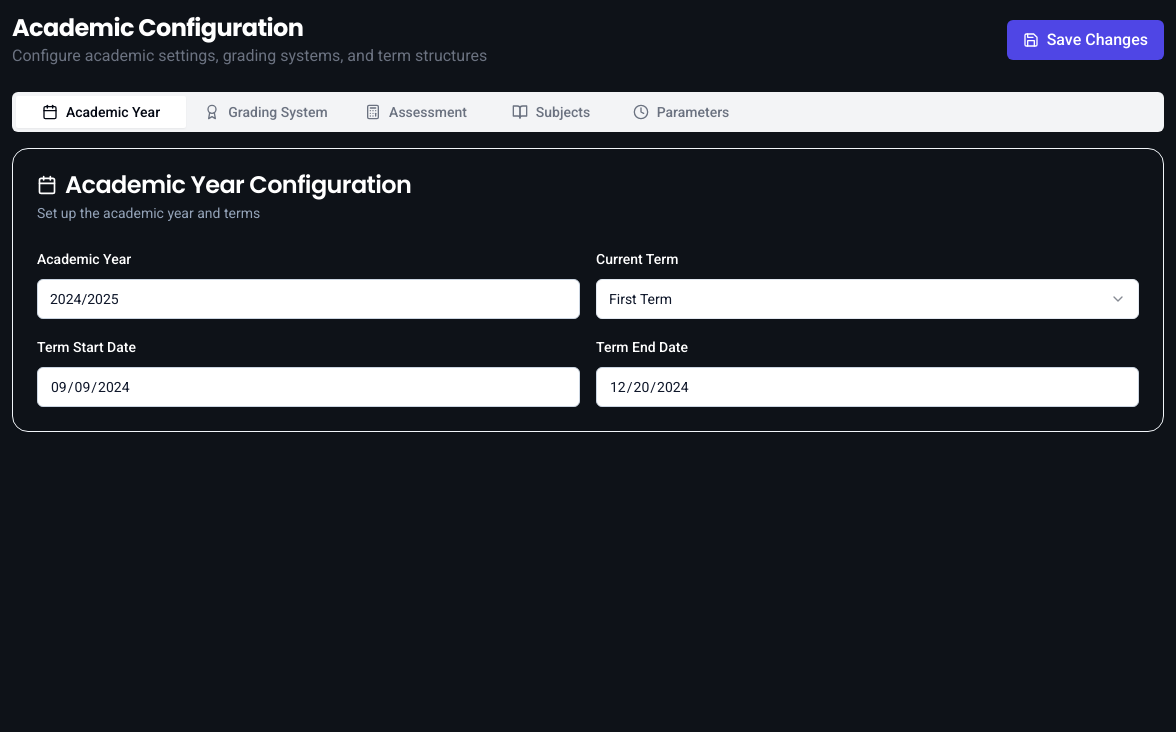
Test: AcademicConfiguration › handles grade editing
This screenshot has width=1176, height=732.
Step 1. Click the tab "Grading System" → [266, 112], box [186,96,346,128]
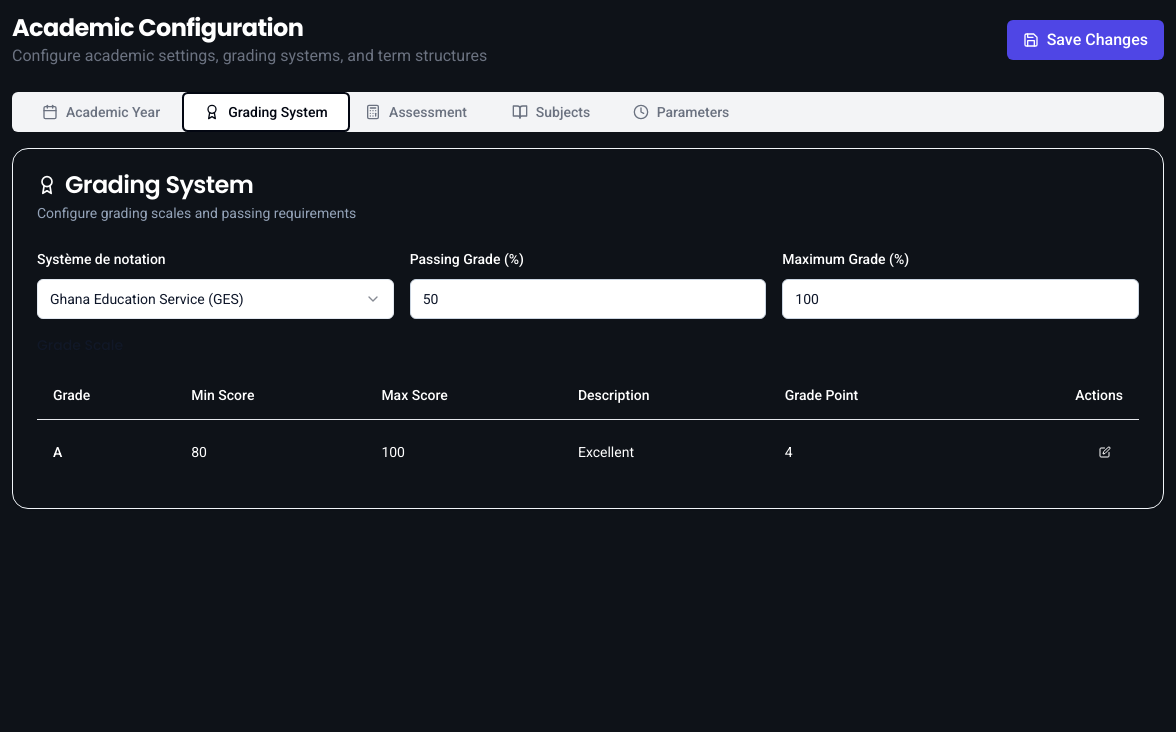
// Find the edit button for the first grade (id: '1')
Step 2. Click the button with test id "edit-grade-1" → [1105, 452], box [1087,436,1123,468]
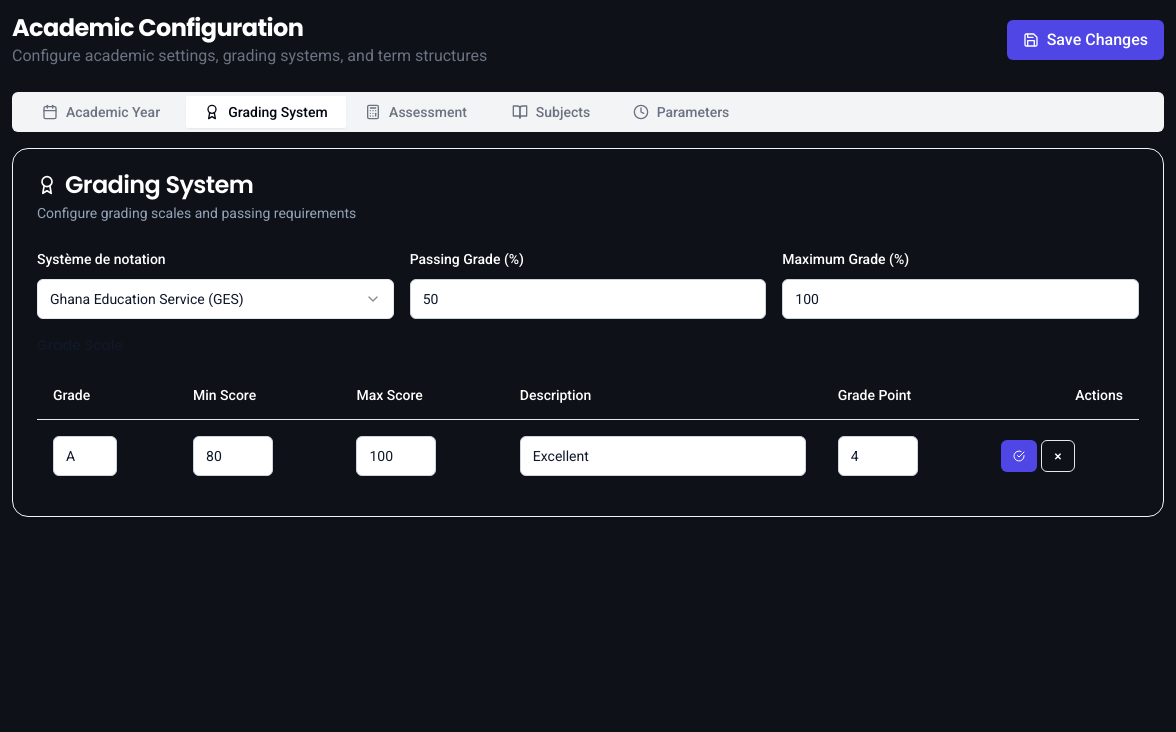
// After clicking edit, an input should appear
Step 3. Replace the text in the 1st field showing "A" with "A+" → [85, 456], box [53,436,117,476]
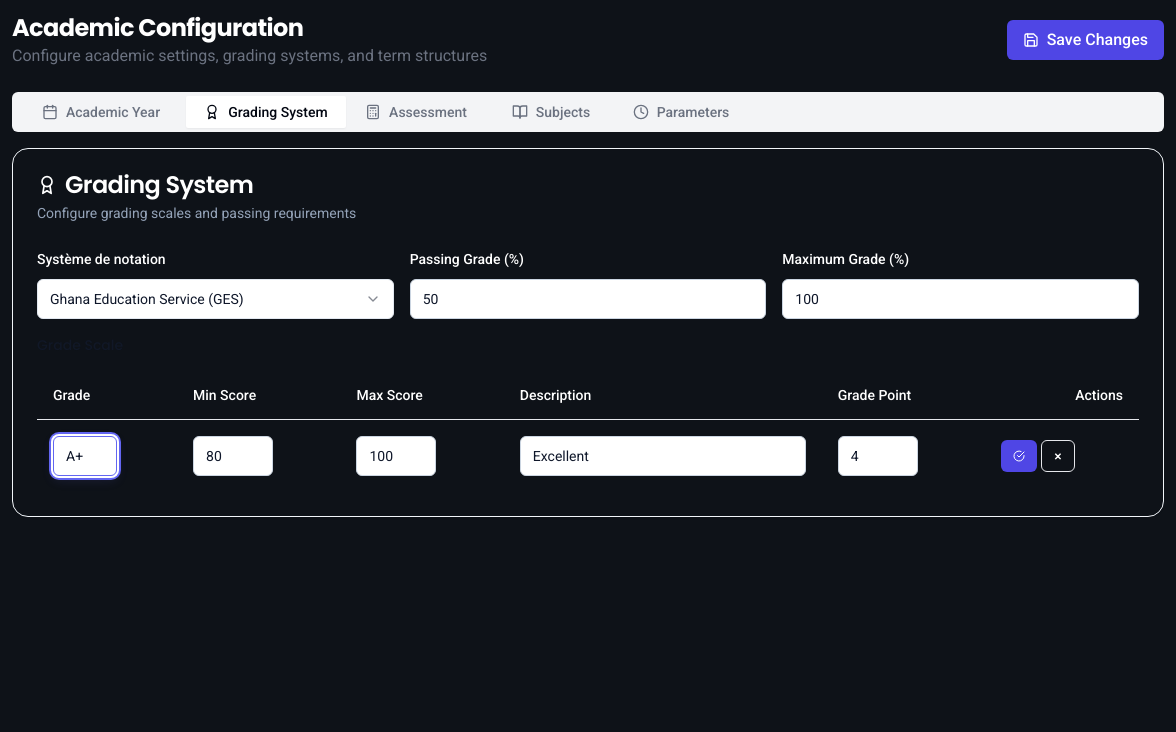
Step 4. Click the button with test id "save-grade-1" → [1019, 456], box [1001,440,1037,472]
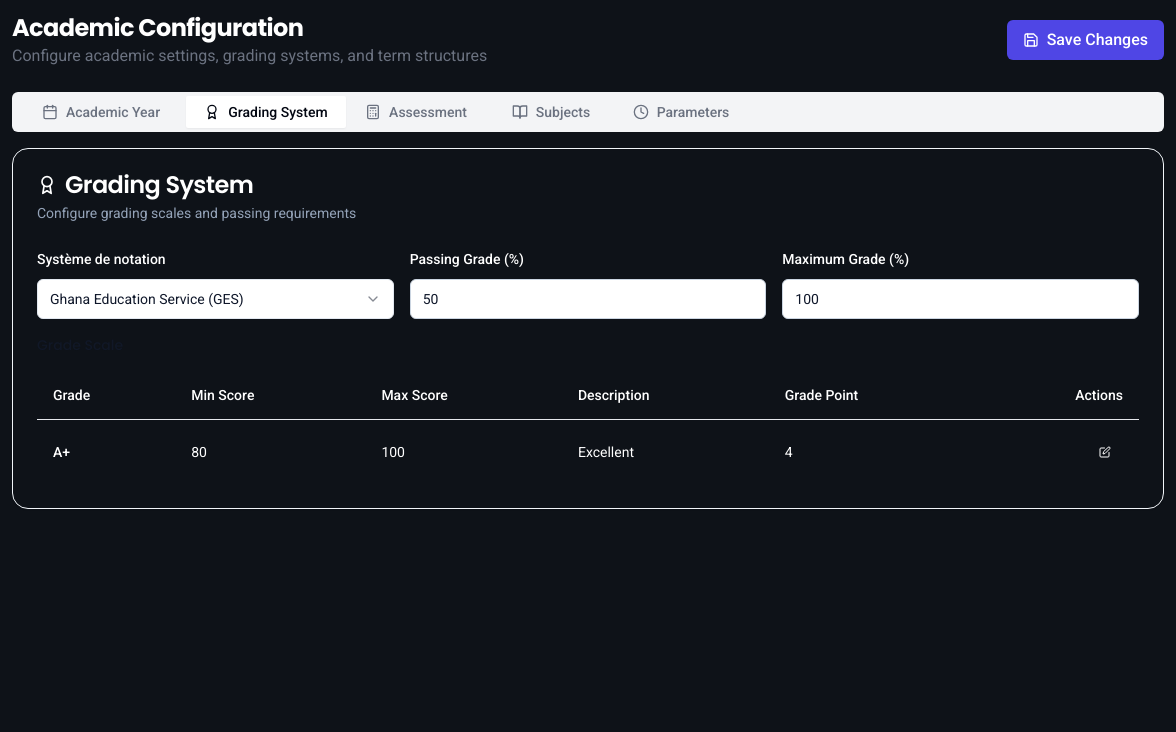
Expected: the text "A+" is shown, [53,444,70,460]
